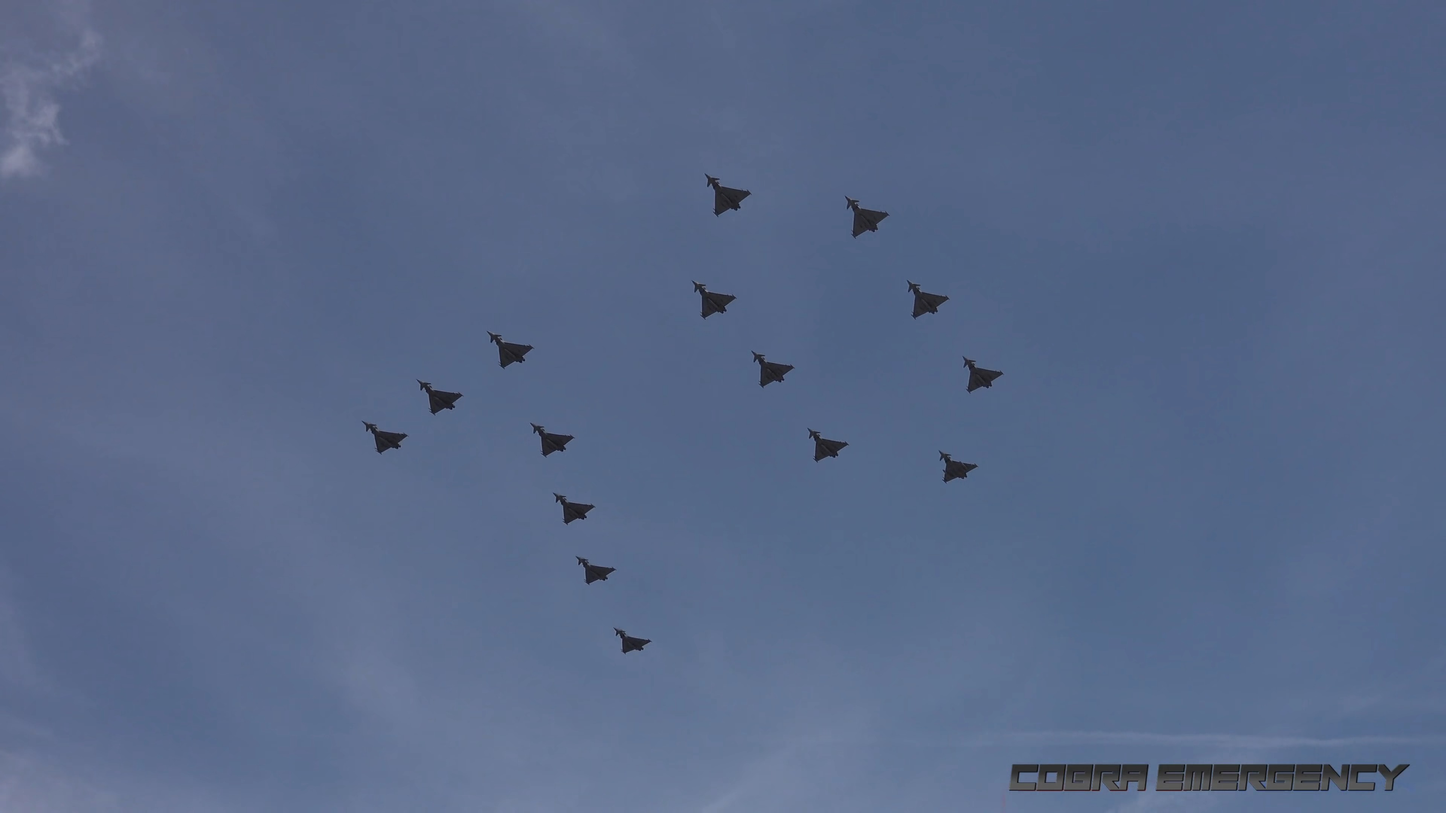not_drone: (348, 412, 421, 464), (693, 170, 767, 221), (682, 275, 750, 327), (471, 324, 546, 370), (898, 273, 961, 326), (835, 192, 896, 243), (741, 345, 800, 397), (928, 446, 983, 492), (560, 551, 624, 590), (522, 417, 581, 459), (550, 488, 604, 531), (413, 375, 466, 418), (801, 423, 852, 467), (953, 358, 1010, 397), (609, 621, 656, 660)
